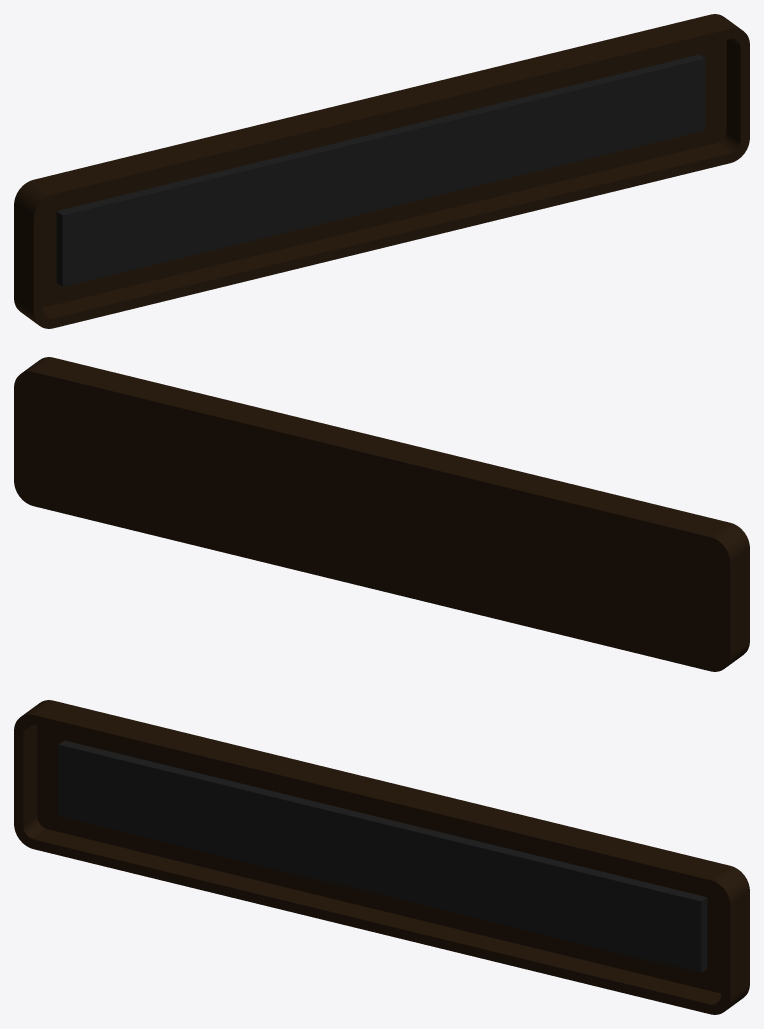
Rendered from Shuffleboard v2.fbx.
The picture shows the model from 3 angles, top to bottom: view 1: azimuth 30°, elevation 25°; view 2: azimuth 150°, elevation 25°; view 3: azimuth 330°, elevation 25°; orthographic projection.
Parts seen in each view (by area): view 1: Body1 (×2); view 2: Body1; view 3: Body1 (×2).
Boxes of the visible parts, x1,y1,x2,y2 form: Body1 (×2): [14, 14, 749, 328]; Body1: [14, 357, 749, 671]; Body1 (×2): [14, 700, 749, 1014].
Size of the model in its own units: 5322 by 953 by 254.
